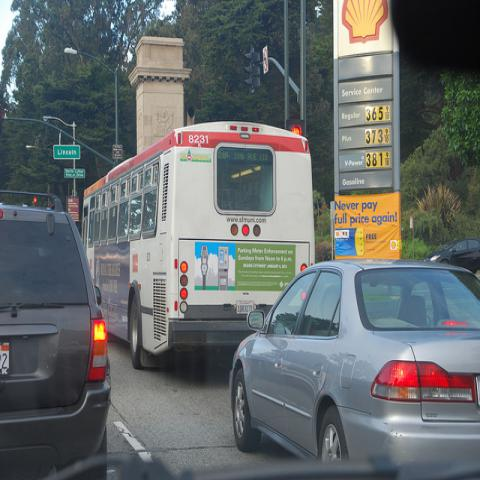bus: (84, 132, 316, 378)
car: (225, 267, 479, 473), (0, 189, 111, 479), (423, 237, 479, 274)
